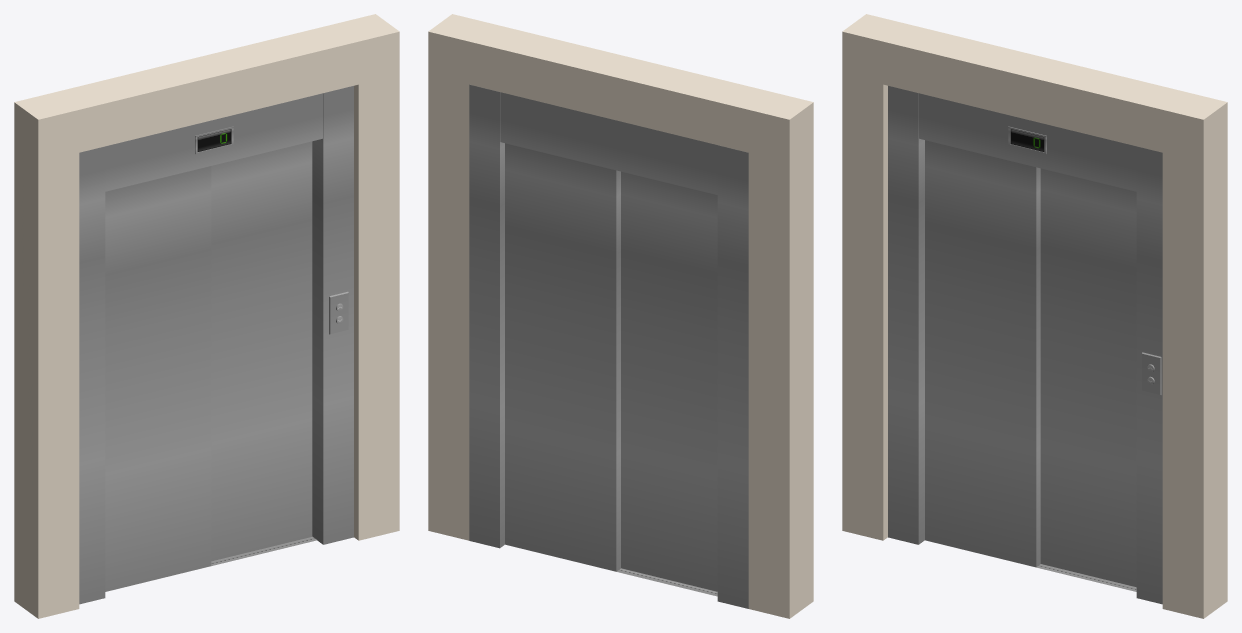
The model's file is elevator-door.glb.
3 views of the same model, side by side, from view 1: azimuth 30°, elevation 25°; view 2: azimuth 150°, elevation 25°; view 3: azimuth 330°, elevation 25° (orthographic).
Visible parts, largest first — view 1: Object_6, Object_3, Object_2, Object_7, Object_5, Object_4; view 2: Object_6, Object_3, Object_2, Object_5; view 3: Object_3, Object_6, Object_2, Object_7, Object_5, Object_4.
Boxes of the visible parts, <box> form: Object_6: <box>79,86,353,604</box>; Object_3: <box>14,14,399,618</box>; Object_2: <box>105,166,211,591</box>; Object_7: <box>195,126,348,334</box>; Object_5: <box>107,536,316,591</box>; Object_4: <box>197,129,231,151</box>; Object_6: <box>469,84,748,608</box>; Object_3: <box>428,14,813,618</box>; Object_2: <box>621,171,717,591</box>; Object_5: <box>511,546,717,596</box>; Object_3: <box>842,14,1227,618</box>; Object_6: <box>888,86,1162,604</box>; Object_2: <box>925,140,1040,567</box>; Object_7: <box>1008,126,1161,394</box>; Object_5: <box>925,540,1136,591</box>; Object_4: <box>1010,129,1044,151</box>.
Size of the model in its own units: 186 by 245 by 21.49.
Materials: 6 (5 with a texture image).
